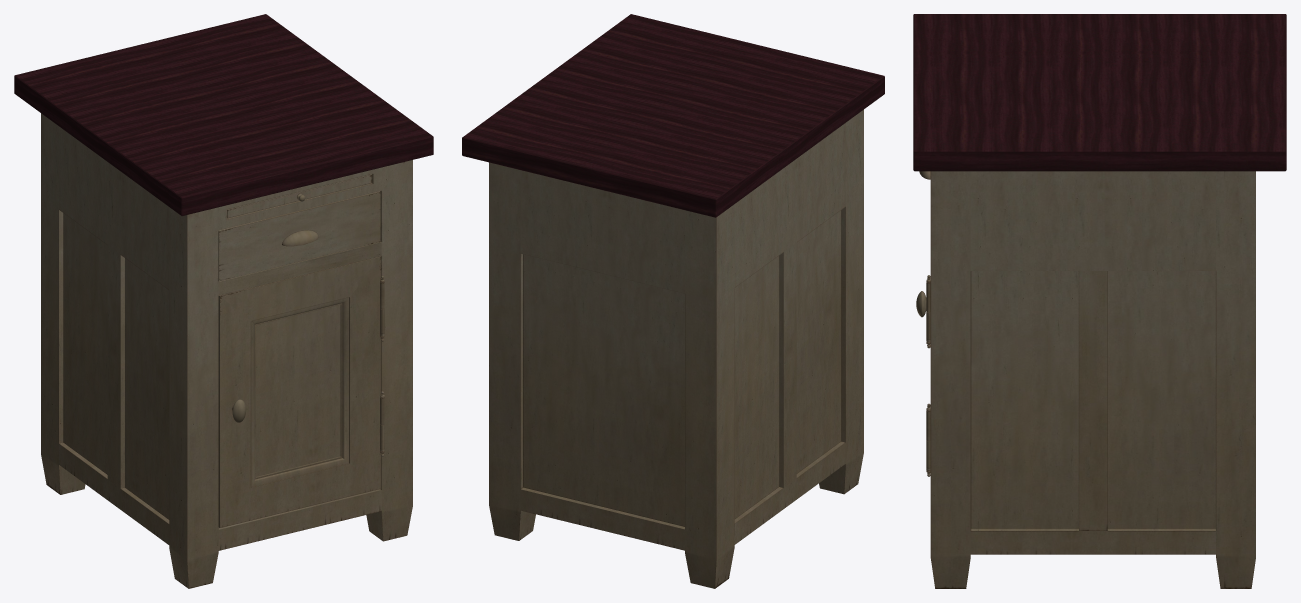
Rendered from example100.glb.
3 renders of one model, left to right at view 1: azimuth 30°, elevation 25°; view 2: azimuth 150°, elevation 25°; view 3: azimuth 270°, elevation 25°, orthographic. The views are drawn at different scales.
Parts seen in each view (by area): view 1: Buffer Layer (×2); view 2: Buffer Layer (×2); view 3: Buffer Layer (×2).
Boxes of the visible parts, <box> form: Buffer Layer (×2): <box>14,14,433,588</box>; Buffer Layer (×2): <box>462,14,884,588</box>; Buffer Layer (×2): <box>913,14,1286,588</box>.
Size of the model in its own units: 0.5 by 0.7611 by 0.5752.
2 materials, 2 textured.
